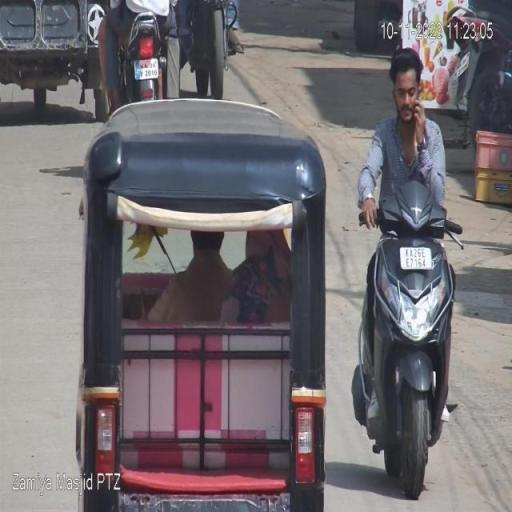using mobile: (408, 76, 426, 140)
